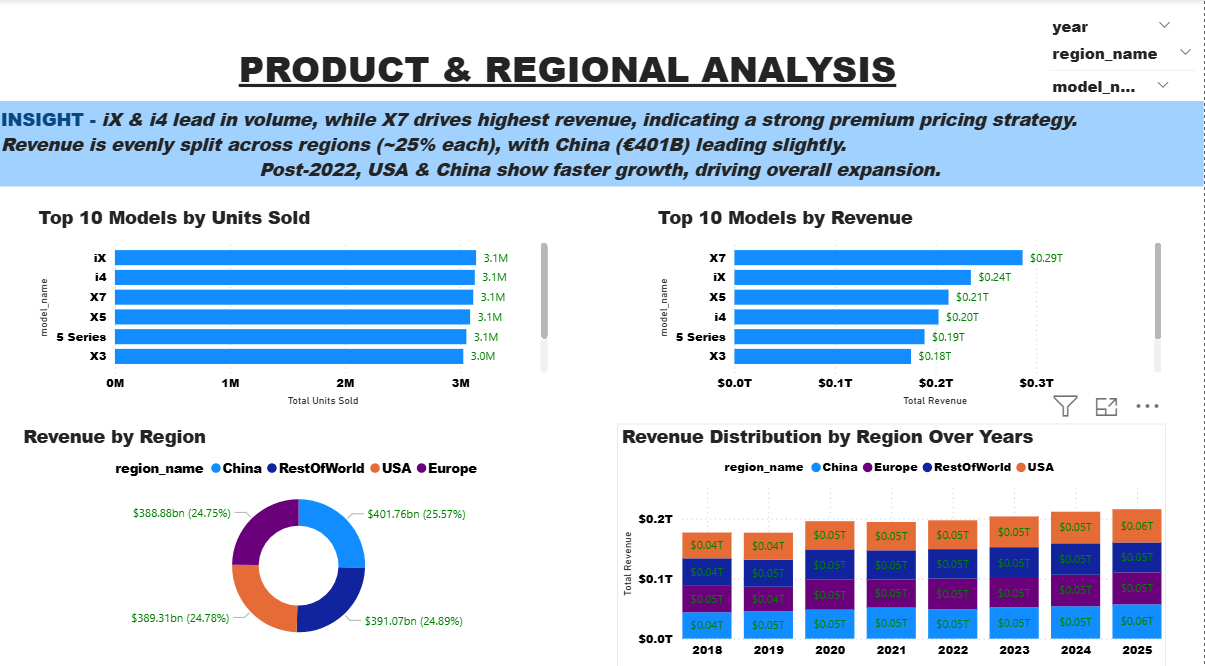

The page's visual inventory and layout, read from the dashboard file:
{"tool":"powerbi","page":{"name":"Page 2","canvas":[1280,720],"ordinal":1},"visuals":[{"type":"clusteredBarChart","title":"Top 10 Models by Units Sold","fields":{"Category":["dim_model.model_name"],"Y":["fact_sales.Total Units Sold"]},"box":[39.8,217.9,550.4,217.9],"z":0},{"type":"clusteredBarChart","title":"Top 10 Models by Revenue","fields":{"Category":["dim_model.model_name"],"Y":["fact_sales.Total Revenue"]},"box":[696.7,217.9,544,217.9],"z":1000},{"type":"donutChart","title":"Revenue by Region","fields":{"Category":["dim_region.region_name"],"Y":["fact_sales.Total Revenue"]},"box":[23.9,450.1,593.3,245],"z":2000},{"type":"columnChart","title":"Revenue Distribution by Region Over Years","fields":{"Y":["fact_sales.Total Revenue"],"Category":["dim_date.year"],"Series":["dim_region.region_name"]},"box":[658.5,450.1,582.2,268.8],"z":3000},{"type":"slicer","fields":{"Values":["dim_date.year"]},"box":[1107.1,12.7,151.1,28.6],"z":4000},{"type":"slicer","fields":{"Values":["dim_region.region_name"]},"box":[1107.1,41.4,173.4,36.6],"z":5000},{"type":"slicer","fields":{"Values":["dim_model.model_name"]},"box":[1107.1,76.3,149.5,31.8],"z":6000},{"type":"textbox","box":[184.5,41.4,843,66.8],"z":7000},{"type":"textbox","box":[0,108.2,1280.4,90.7],"z":7001}]}

Visuals, with their boxes in screenshot pixels (x1, y1, x2, y2), scaled from the page's 1280x720 canvas onto the 1205x666 screenshot:
"Top 10 Models by Units Sold" clusteredBarChart: (37, 202, 556, 403)
"Top 10 Models by Revenue" clusteredBarChart: (656, 202, 1168, 403)
"Revenue by Region" donutChart: (22, 416, 581, 643)
"Revenue Distribution by Region Over Years" columnChart: (620, 416, 1168, 665)
slicer - dim_date.year: (1042, 12, 1184, 38)
slicer - dim_region.region_name: (1042, 38, 1204, 72)
slicer - dim_model.model_name: (1042, 71, 1183, 100)
textbox: (174, 38, 967, 100)
textbox: (0, 100, 1204, 184)
